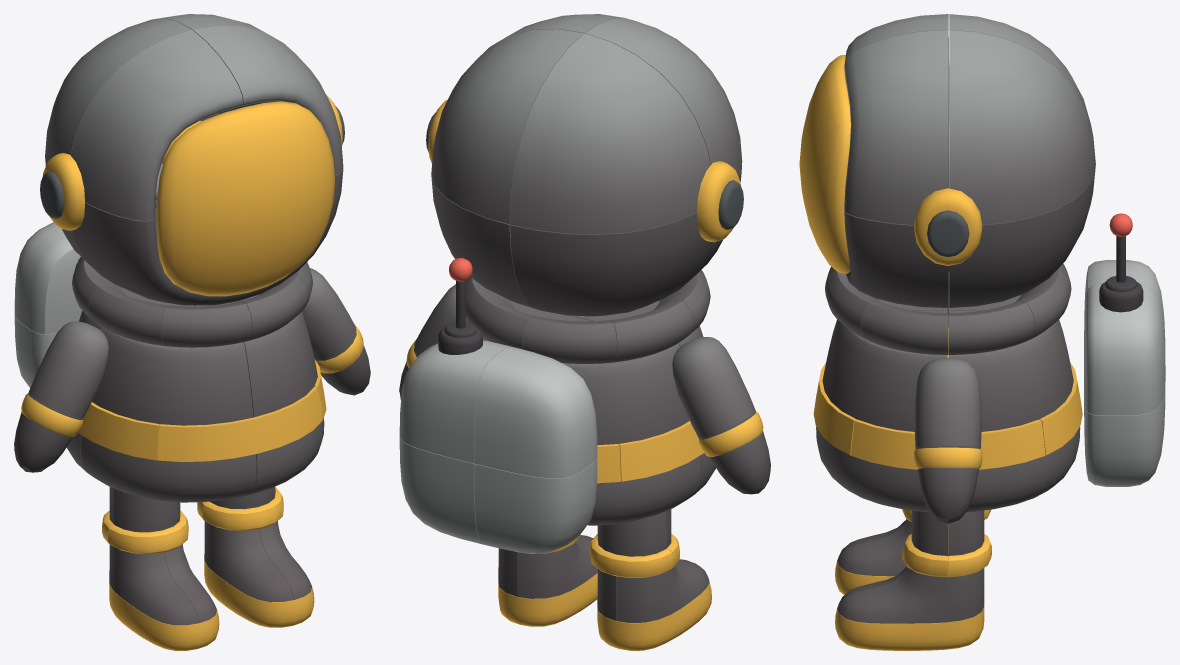
File: Level_P_10.fbx
3 views of the same model, side by side, from view 1: azimuth 30°, elevation 25°; view 2: azimuth 150°, elevation 25°; view 3: azimuth 270°, elevation 25° (orthographic). The views are drawn at different scales.
Parts seen in each view (by area): view 1: Cube.282, Cube.270, suit.006, Cube.269, suit.004, Cube.271, suit.001, Cube.266, Cube.268, Cube.280, suit.007, Cube.261 (+20 smaller); view 2: Cube.266, Cube.267, Cube.283, Cube.268, Cube.265, Cube.276, suit.008, Cube.270, Cube.280, Cube.275, Cube.264, suit.005 (+20 smaller); view 3: Cube.267, Cube.269, Cube.276, Cube.264, Cube.282, suit.002, suit.007, Cube.272, Cube.260, Cube.275, Cube.281, suit.009 (+20 smaller).
Part boxes in pixels (x1,y1,x2,y2): Cube.282: (156,101,334,296); Cube.270: (71,29,242,220); suit.006: (92,305,253,425); Cube.269: (192,25,343,175); suit.004: (81,435,256,502); Cube.271: (72,202,242,305); suit.001: (158,387,322,461); Cube.266: (45,18,191,164); Cube.268: (14,222,82,334); Cube.280: (29,321,108,418); suit.007: (194,294,317,417); Cube.261: (204,521,293,602); Cube.266: (510,33,710,234); Cube.267: (431,29,583,224); Cube.283: (510,212,709,316); Cube.268: (474,346,597,478); Cube.265: (474,459,597,553); Cube.276: (399,340,510,463); suit.008: (562,319,689,445); Cube.270: (585,18,742,176); Cube.280: (672,337,755,437); Cube.275: (399,438,481,544); Cube.264: (431,175,540,310); suit.005: (587,456,701,525); Cube.267: (949,30,1095,224); Cube.269: (844,30,948,225); Cube.276: (1084,283,1165,415); Cube.264: (949,166,1095,307); Cube.282: (799,55,850,273); suit.002: (948,311,1073,431); suit.007: (822,311,947,431); Cube.272: (844,210,948,307); Cube.260: (837,566,984,623); Cube.275: (1084,377,1165,486); Cube.281: (914,358,981,447); suit.009: (851,419,1045,469).
Bounding box in the file's own units: 1.98 × 3.1 × 1.75.
